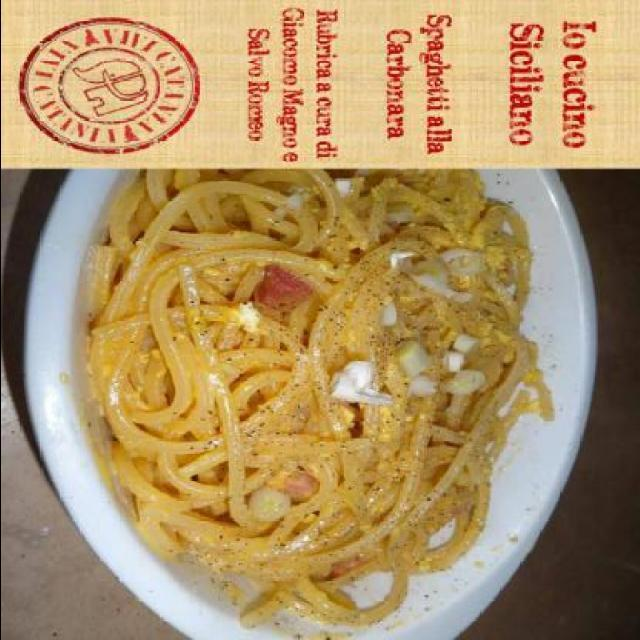Pasta with carbonara sauce: (93, 173, 562, 621)
